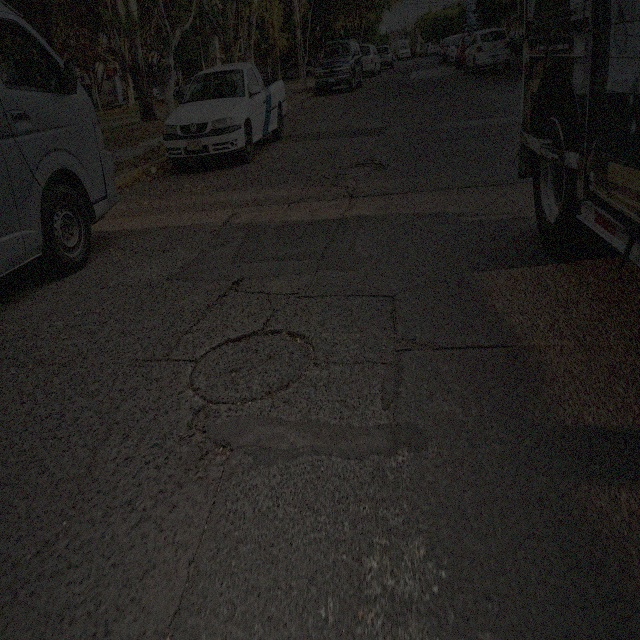pothole: (188, 407, 227, 463), (338, 185, 354, 206)
